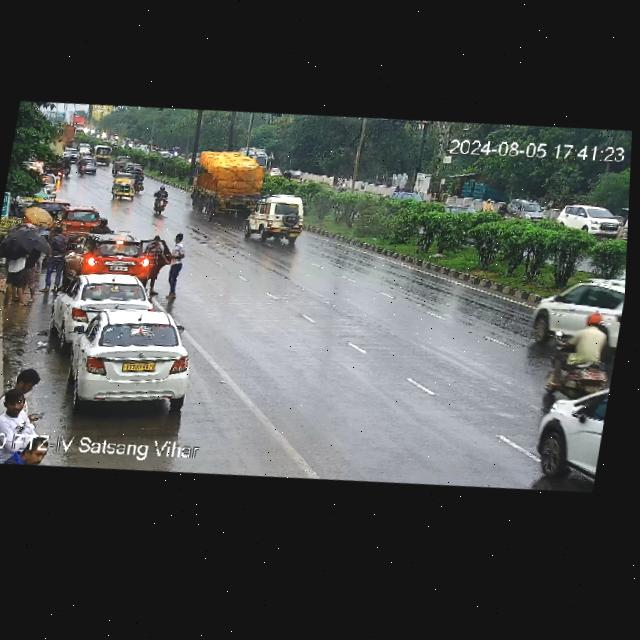car: (65, 299, 205, 421), (526, 376, 610, 497), (51, 267, 155, 346), (528, 267, 626, 349), (68, 224, 170, 288), (243, 189, 313, 251), (555, 200, 623, 251), (0, 238, 32, 310), (51, 200, 100, 238), (20, 242, 48, 307), (504, 198, 547, 225), (385, 187, 427, 208), (436, 200, 480, 220), (109, 174, 136, 201), (112, 159, 146, 178), (77, 154, 102, 179), (40, 168, 60, 199), (282, 167, 308, 190), (91, 144, 112, 166), (110, 152, 131, 172), (61, 146, 79, 161), (75, 141, 92, 155)
motorcycle: (555, 304, 622, 395), (149, 183, 170, 216), (133, 169, 147, 194), (62, 157, 73, 176), (337, 176, 349, 192), (78, 158, 87, 175), (125, 139, 133, 148), (100, 130, 107, 138), (82, 126, 89, 134), (112, 133, 119, 140), (173, 147, 178, 156), (95, 130, 99, 139), (187, 155, 191, 164), (109, 133, 114, 139), (90, 128, 94, 134)
person: (0, 361, 63, 470), (159, 231, 191, 306), (39, 228, 70, 294), (145, 236, 166, 289)
truck: (189, 142, 279, 223), (52, 120, 78, 149), (247, 145, 273, 170)
